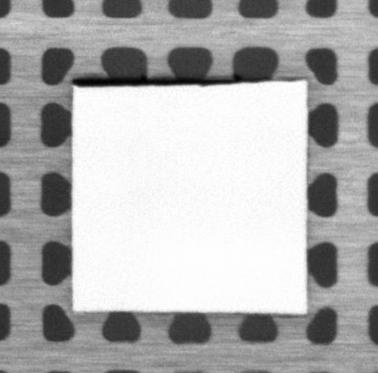DIE_BROKEN: (70, 74, 268, 89)
